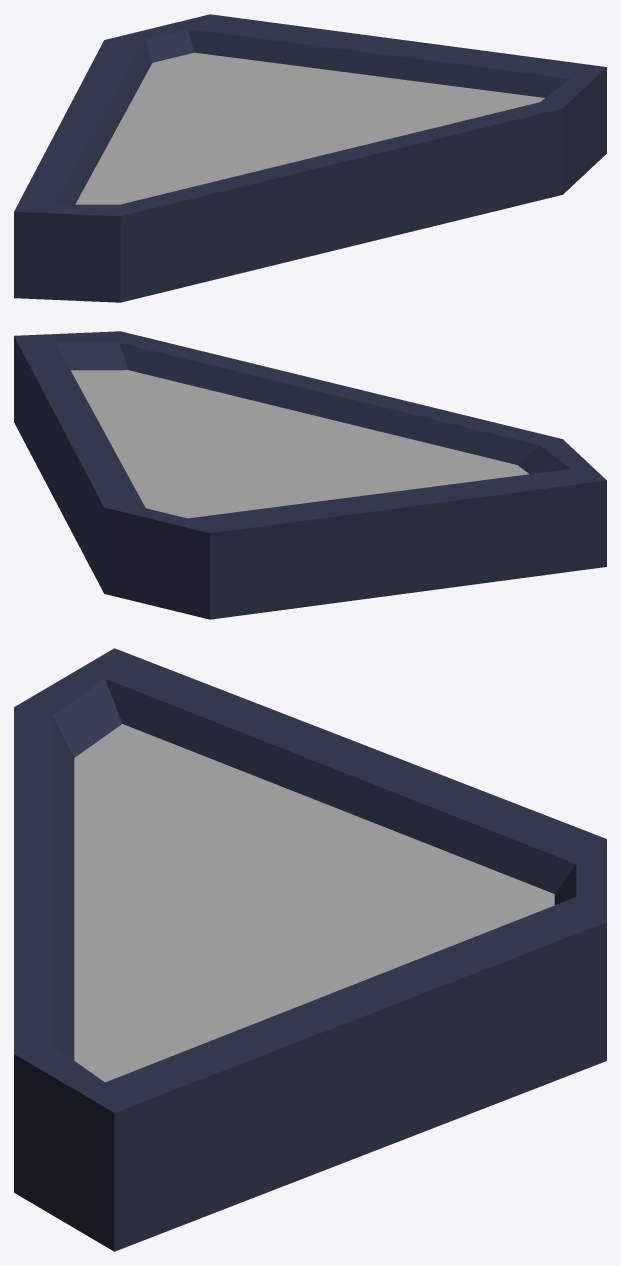
Rendered from Arrow.fbx.
The picture shows the model from 3 angles, top to bottom: view 1: azimuth 30°, elevation 25°; view 2: azimuth 150°, elevation 25°; view 3: azimuth 270°, elevation 25°; orthographic projection. The views are drawn at different scales.
Parts seen in each view (by area): view 1: Arrow; view 2: Arrow; view 3: Arrow.
Boxes of the visible parts, <box> form: Arrow: <box>14,14,606,302</box>; Arrow: <box>14,331,606,619</box>; Arrow: <box>14,648,606,1251</box>.
Bounding box in the file's own units: 143 × 19.85 × 76.86.
